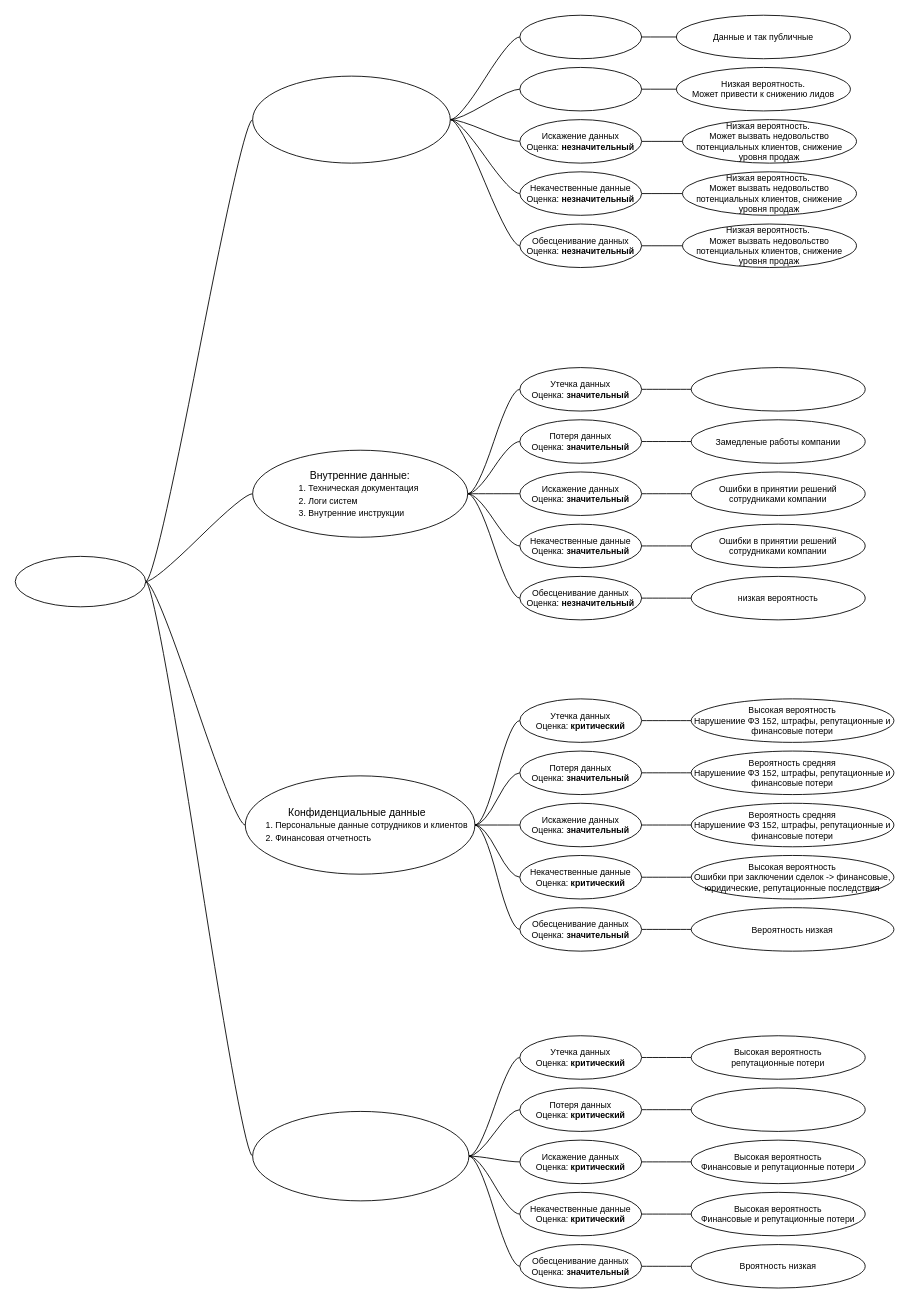
This 909x1303 diagram has some shape labels left out. The shapes that lost their labels are listed below. From the top down, each one's centre as x and y in pixels, then its label:
At (580,36): "Утечка данных Оценка: незначительный".
At (580,89): "Потеря данных Оценка: незначительный".
At (351,119): "Публичные данные: 1. Данные о недвижимости на сайте 2. Предлагаемые услуги".
At (777,389): "Данные могут попасть конкурентам или злоумышленникам".
At (80,581): "Безопасность данных".
At (777,1109): "Вероятность средняя".
At (360,1156): "Cекретные данные: 1. Платежные данные 2. Данные о сделках".
